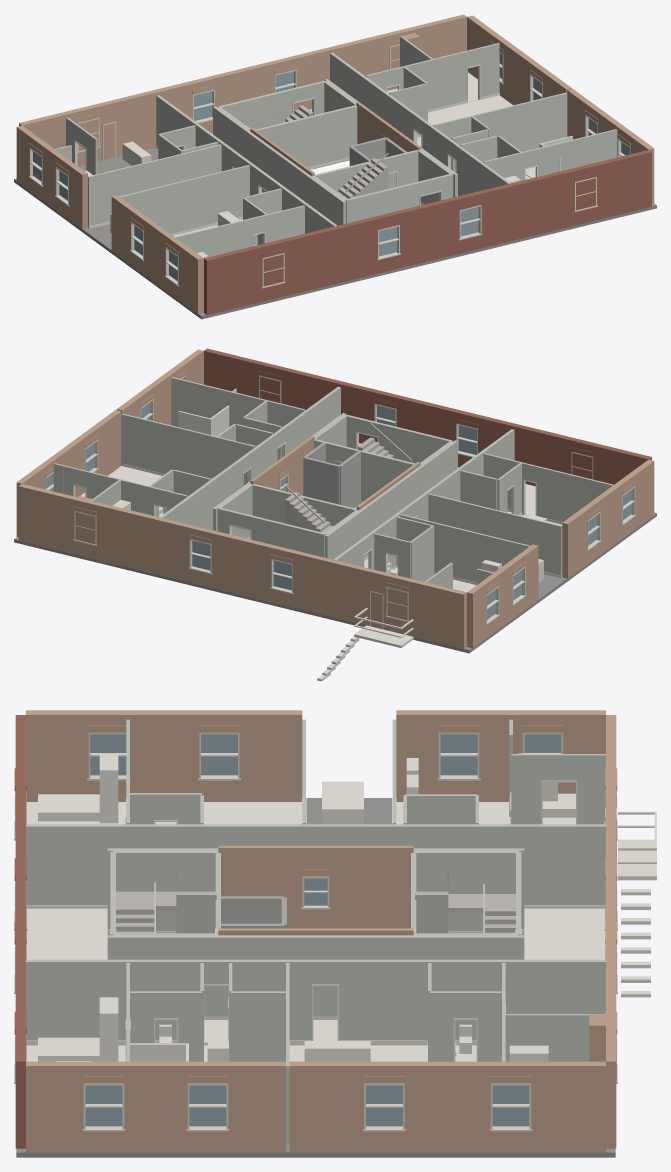
File: floor_03.glb
3 views of the same model, one above another, from view 1: azimuth 30°, elevation 25°; view 2: azimuth 150°, elevation 25°; view 3: azimuth 270°, elevation 25° (orthographic). The views are drawn at different scales.
Visible parts, largest first — view 1: F03_walls-col, F03_walls_cbrick-col, F03_walls_fbrick-col, F03_stone_trim-col, F03_slabs-col, F03_glazing-col, F03_furniture-col, F03_stairs, F03_trim, F03_walls_conc-col; view 2: F03_walls-col, F03_walls_cbrick-col, F03_walls_fbrick-col, F03_furniture-col, F03_stone_trim-col, F03_glazing-col, F03_walls_conc-col, F03_slabs-col, F03_stairs, F03_trim; view 3: F03_walls-col, F03_walls_cbrick-col, F03_furniture-col, F03_glazing-col, F03_stairs, F03_stone_trim-col, F03_walls_fbrick-col, F03_slabs-col, F03_trim, F03_walls_conc-col.
Boxes of the visible parts, x1,y1,x2,y2 form: F03_walls-col: [55, 36, 617, 257]; F03_walls_cbrick-col: [16, 14, 654, 314]; F03_walls_fbrick-col: [204, 150, 651, 315]; F03_stone_trim-col: [28, 44, 630, 288]; F03_slabs-col: [14, 99, 656, 319]; F03_glazing-col: [33, 53, 629, 280]; F03_furniture-col: [85, 45, 572, 258]; F03_stairs: [246, 90, 388, 198]; F03_trim: [74, 64, 537, 246]; F03_walls_conc-col: [349, 137, 406, 165]; F03_walls-col: [53, 377, 613, 588]; F03_walls_cbrick-col: [16, 349, 654, 649]; F03_walls_fbrick-col: [204, 348, 651, 486]; F03_furniture-col: [63, 388, 562, 681]; F03_stone_trim-col: [45, 375, 635, 629]; F03_glazing-col: [46, 403, 631, 619]; F03_walls_conc-col: [303, 442, 361, 508]; F03_slabs-col: [14, 469, 656, 653]; F03_stairs: [285, 422, 418, 532]; F03_trim: [73, 431, 562, 586]; F03_walls-col: [26, 719, 605, 1148]; F03_walls_cbrick-col: [26, 710, 617, 1152]; F03_furniture-col: [26, 753, 656, 1061]; F03_glazing-col: [85, 734, 561, 1126]; F03_stairs: [116, 871, 515, 933]; F03_stone_trim-col: [14, 732, 617, 1131]; F03_walls_fbrick-col: [14, 715, 26, 1148]; F03_slabs-col: [16, 798, 615, 1157]; F03_trim: [26, 780, 605, 1148]; F03_walls_conc-col: [221, 896, 286, 928].
Size of what is drawn, in the model's own units: 28.1 by 7.36 by 21.4.
